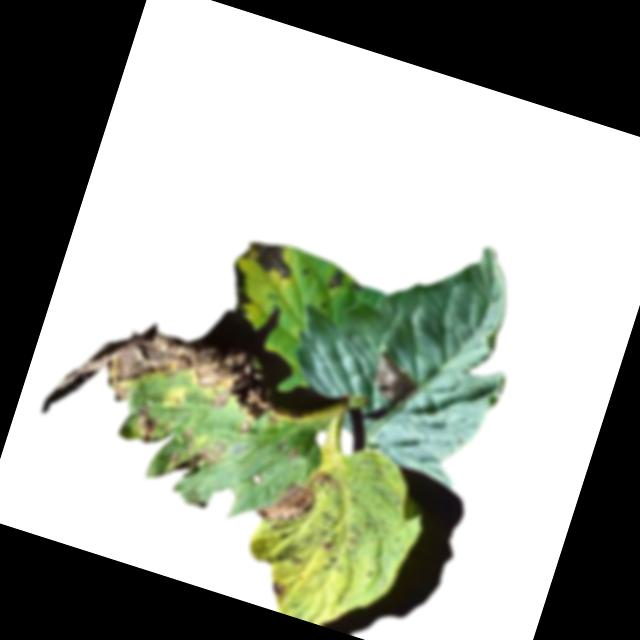Early_blight: (39, 297, 310, 487), (257, 455, 332, 536), (368, 353, 422, 409), (239, 234, 298, 282), (221, 258, 262, 311), (266, 577, 289, 600), (326, 266, 346, 292)
